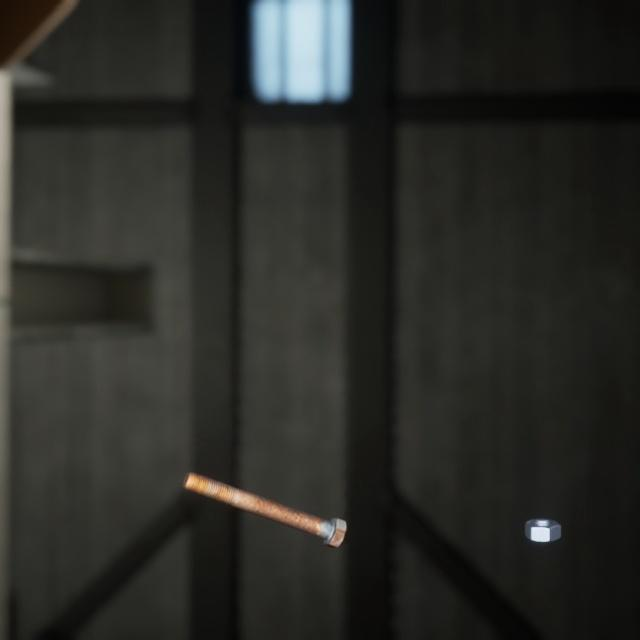bolt: (178, 445, 351, 530)
nut: (520, 492, 565, 524)
